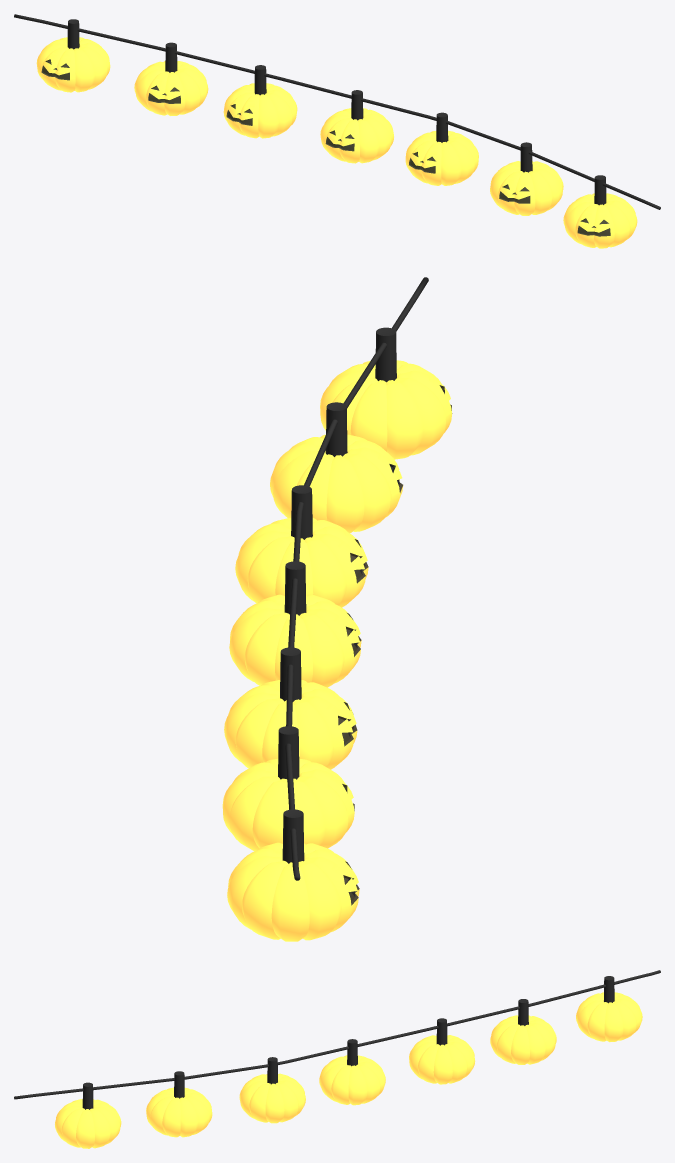
Rendered from lightString.glb.
The picture shows the model from 3 angles, top to bottom: view 1: azimuth 30°, elevation 25°; view 2: azimuth 150°, elevation 25°; view 3: azimuth 270°, elevation 25°; orthographic projection. The views are drawn at different scales.
Parts seen in each view (by area): view 1: Object_4, Object_5, Object_3, Object_2; view 2: Object_4, Object_5, Object_3, Object_2; view 3: Object_4, Object_5, Object_2, Object_3.
Part boxes in pixels (bbox=[...]): Object_4: bbox=[36, 19, 605, 215]; Object_5: bbox=[41, 61, 637, 248]; Object_3: bbox=[41, 22, 610, 236]; Object_2: bbox=[14, 14, 660, 209]; Object_4: bbox=[224, 327, 403, 941]; Object_5: bbox=[222, 360, 451, 904]; Object_3: bbox=[278, 332, 452, 905]; Object_2: bbox=[285, 277, 428, 880]; Object_4: bbox=[83, 976, 642, 1137]; Object_5: bbox=[55, 1015, 556, 1148]; Object_2: bbox=[14, 970, 660, 1099]; Object_3: bbox=[82, 978, 614, 1109].
Size of the model in its own units: 9.41 by 1.97 by 19.39.
2 materials, 2 textured.
